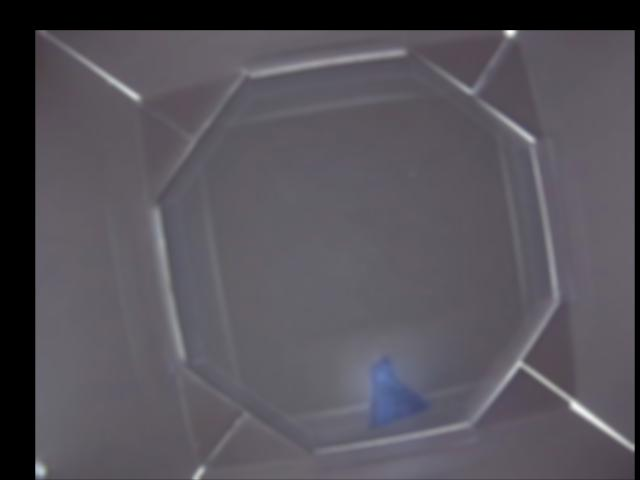Mooli: (366, 355, 427, 427)
